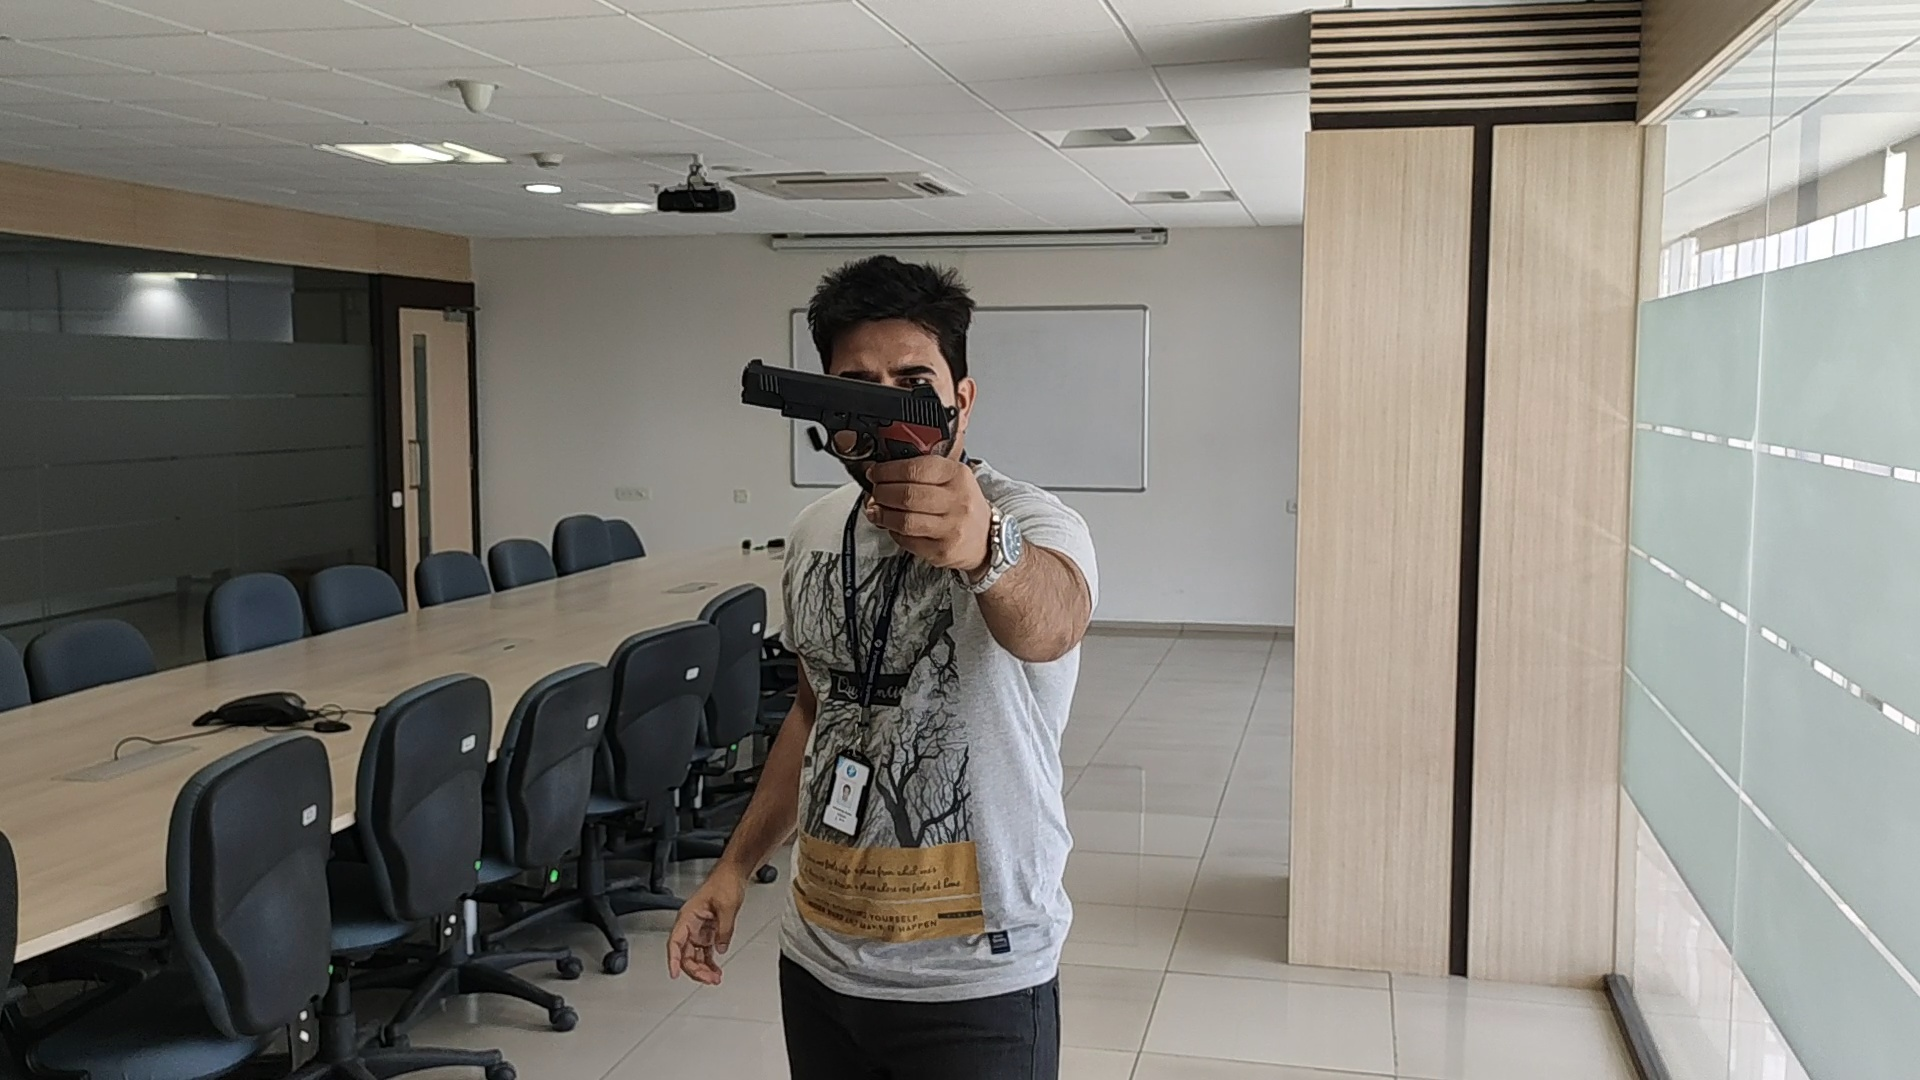gun: (740, 357, 959, 452)
